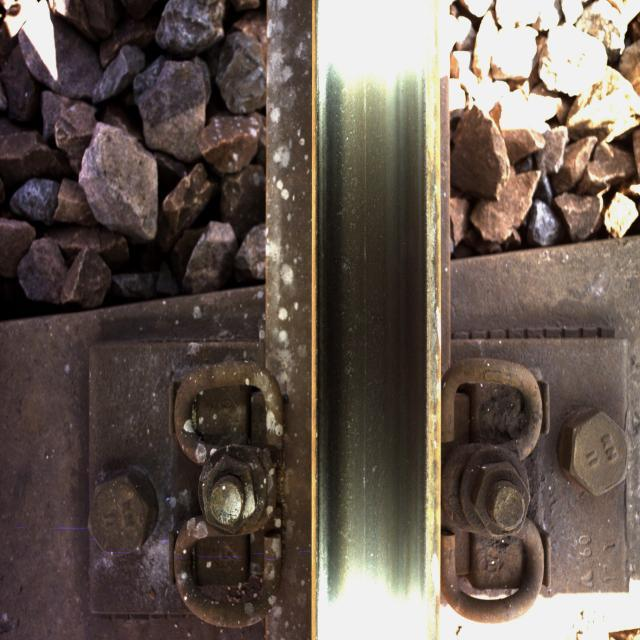break: (318, 9, 412, 595)
